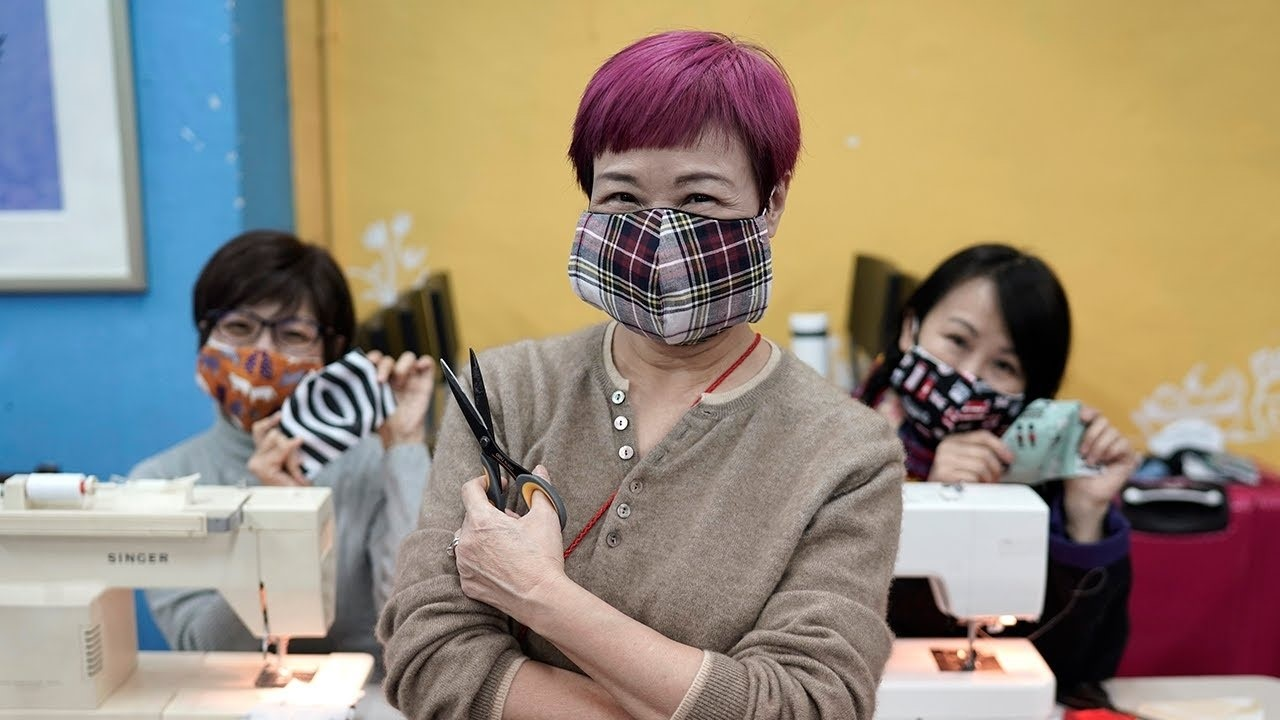face_with_mask: (555, 78, 795, 386), (884, 241, 1078, 468), (185, 248, 353, 448)
